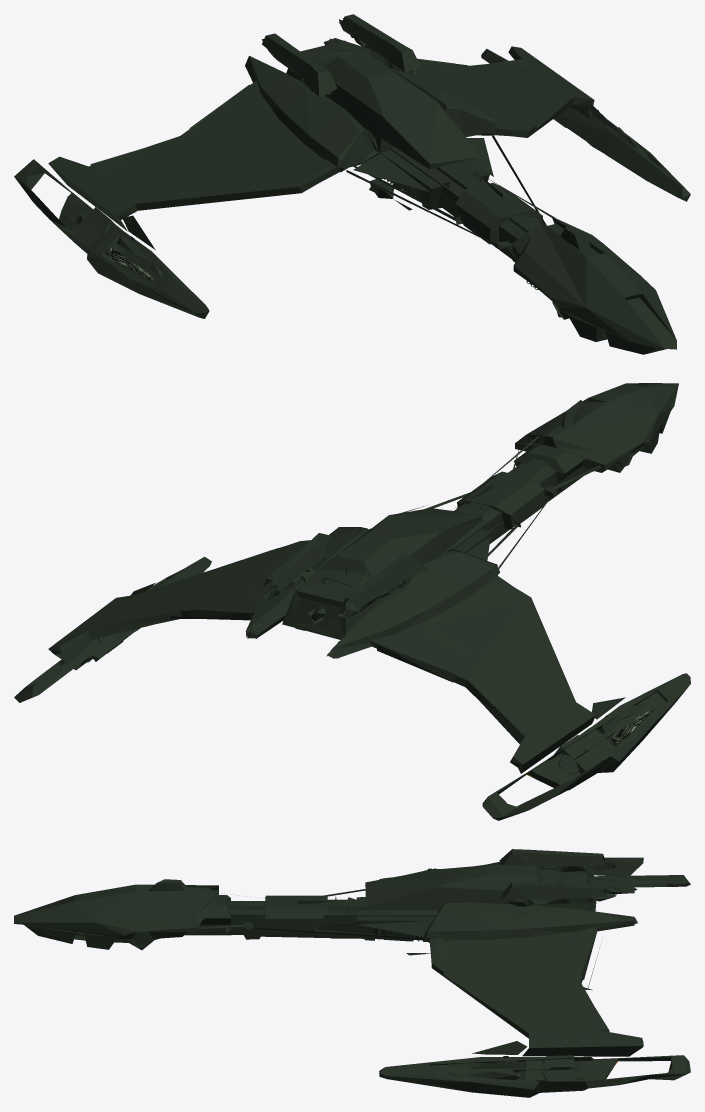
The picture shows the model from 3 angles, top to bottom: view 1: azimuth 30°, elevation 25°; view 2: azimuth 150°, elevation 25°; view 3: azimuth 270°, elevation 25°; orthographic projection. The views are drawn at different scales.
Parts seen in each view (by area): view 1: D5_Class_D5_diffuse_1_0; view 2: D5_Class_D5_diffuse_1_0; view 3: D5_Class_D5_diffuse_1_0.
Part boxes in pixels (box(x1,y1,x2,y2)): D5_Class_D5_diffuse_1_0: box(14, 14, 690, 354); D5_Class_D5_diffuse_1_0: box(14, 383, 690, 820); D5_Class_D5_diffuse_1_0: box(14, 849, 690, 1097).
Bounding box in the file's own units: 488 × 139 × 662.
2 materials, 2 textured.
